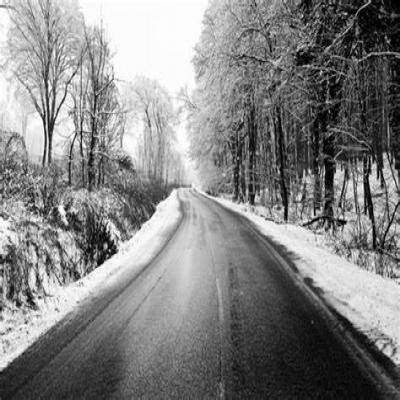iced-road: (13, 190, 381, 399)
